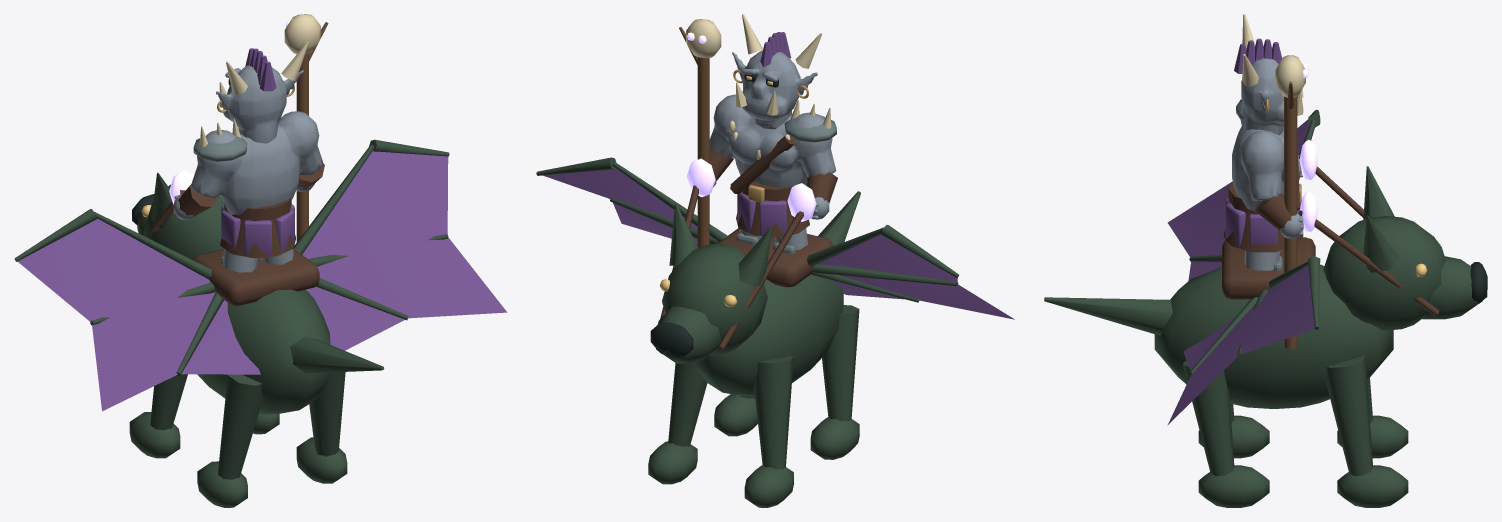
File: host_42.glb
3 renders of one model, left to right at view 1: azimuth 30°, elevation 25°; view 2: azimuth 150°, elevation 25°; view 3: azimuth 270°, elevation 25°, orthographic. The views are drawn at different scales.
Visible parts, largest first — view 1: mesh_Cloth.002, mesh_Cloth.001, mesh_Shadow.002, mesh_Skin.002, mesh_Leather.002, mesh_Shadow.003, mesh_Shadow.005, mesh_Shadow.007, mesh_Shadow.004, mesh_Shadow.008, mesh_Cloth.041, mesh_Bone.041 (+3 smaller); view 2: mesh_Shadow.002, mesh_Skin.002, mesh_Leather.002, mesh_Cloth.001, mesh_Shadow.004, mesh_Shadow.003, mesh_Shadow.006, mesh_Cloth.002, mesh_Shadow.007, mesh_Bone.041, mesh_Shadow.008, mesh_Wood.041 (+5 smaller); view 3: mesh_Shadow.002, mesh_Skin.002, mesh_Cloth.002, mesh_Shadow.006, mesh_Leather.002, mesh_Shadow.005, mesh_Cloth.001, mesh_Cloth.041, mesh_Wood.041, mesh_Bone.041, mesh_Shadow.008, mesh_Shadow.004 (+5 smaller).
Boxes of the visible parts, bbox=[...] form: mesh_Cloth.002: bbox=[302, 150, 507, 350]; mesh_Cloth.001: bbox=[17, 218, 260, 411]; mesh_Shadow.002: bbox=[137, 172, 384, 414]; mesh_Skin.002: bbox=[173, 65, 322, 220]; mesh_Leather.002: bbox=[149, 162, 324, 305]; mesh_Shadow.003: bbox=[197, 374, 263, 507]; mesh_Shadow.005: bbox=[296, 372, 347, 483]; mesh_Shadow.007: bbox=[14, 209, 223, 376]; mesh_Shadow.004: bbox=[129, 374, 187, 458]; mesh_Shadow.008: bbox=[293, 139, 449, 320]; mesh_Cloth.041: bbox=[221, 48, 294, 255]; mesh_Bone.041: bbox=[199, 14, 320, 147]; mesh_Shadow.002: bbox=[656, 191, 860, 396]; mesh_Skin.002: bbox=[709, 50, 836, 219]; mesh_Leather.002: bbox=[660, 135, 837, 349]; mesh_Cloth.001: bbox=[817, 234, 1014, 319]; mesh_Shadow.004: bbox=[744, 355, 793, 507]; mesh_Shadow.003: bbox=[810, 305, 859, 459]; mesh_Shadow.006: bbox=[648, 363, 707, 484]; mesh_Cloth.002: bbox=[543, 168, 710, 244]; mesh_Shadow.007: bbox=[807, 224, 958, 302]; mesh_Bone.041: bbox=[686, 14, 831, 159]; mesh_Shadow.008: bbox=[536, 157, 728, 245]; mesh_Wood.041: bbox=[679, 27, 709, 247]; mesh_Shadow.002: bbox=[1044, 166, 1487, 408]; mesh_Skin.002: bbox=[1232, 58, 1303, 238]; mesh_Cloth.002: bbox=[1167, 265, 1314, 425]; mesh_Shadow.006: bbox=[1326, 355, 1408, 507]; mesh_Leather.002: bbox=[1222, 136, 1439, 315]; mesh_Shadow.005: bbox=[1182, 361, 1269, 507]; mesh_Cloth.001: bbox=[1167, 119, 1309, 280]; mesh_Cloth.041: bbox=[1225, 38, 1301, 247]; mesh_Wood.041: bbox=[1284, 81, 1297, 348]; mesh_Bone.041: bbox=[1242, 14, 1305, 115]; mesh_Shadow.008: bbox=[1189, 256, 1320, 374]; mesh_Shadow.004: bbox=[1337, 378, 1408, 458].
Size of the model in its own units: 2.03 by 1.98 by 1.75.
